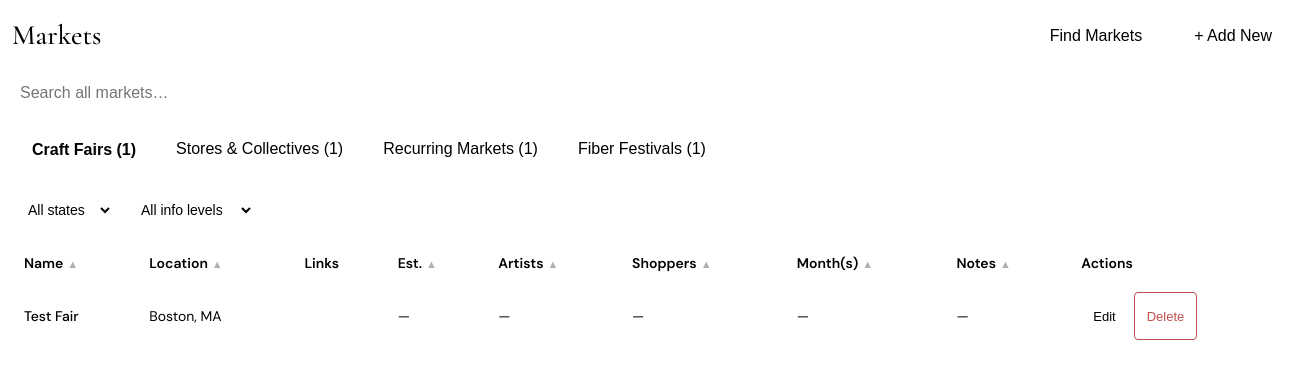
Test: MarketsManager › tab switch shows Fiber Festivals
Click the button "Fiber Festivals (1)" at point(642, 150), box [558, 126, 726, 174]
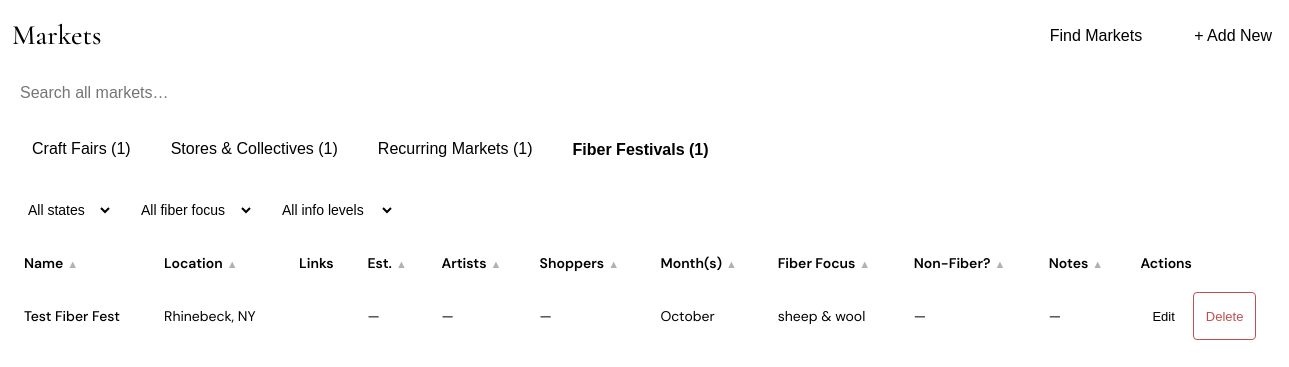
Result: the text "Test Fiber Fest" is shown at [12, 282, 152, 350]
Result: the text "Test Fair" is gone
